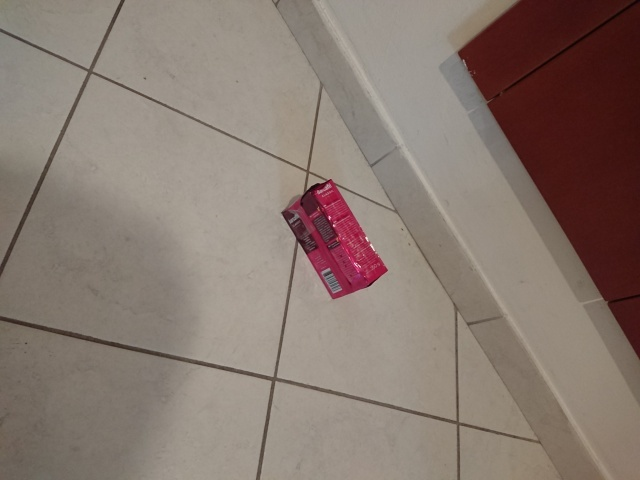Barcaffe Classic Original 225g: (279, 178, 391, 301)
